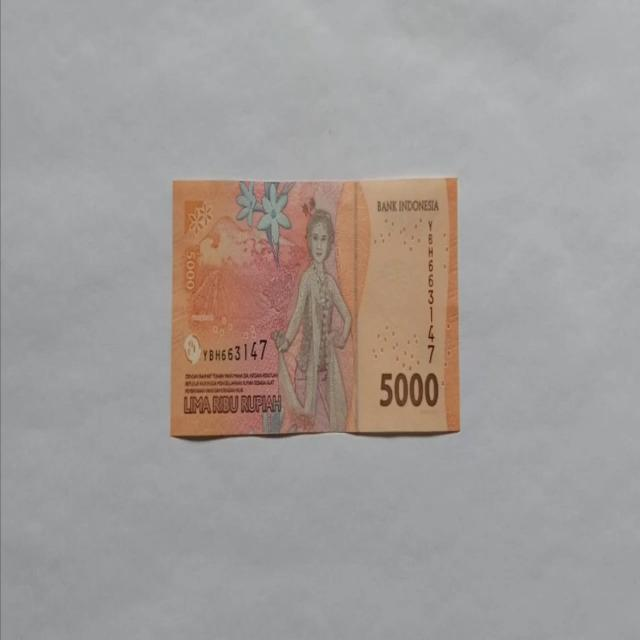lima ribu rupiah: (170, 175, 460, 439), (269, 208, 353, 432)
